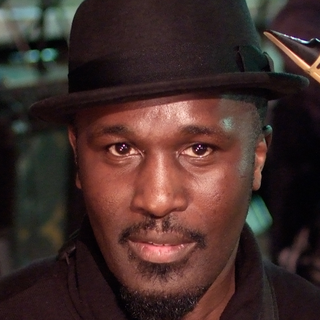eye: (98, 138, 145, 162), (174, 140, 219, 165)
